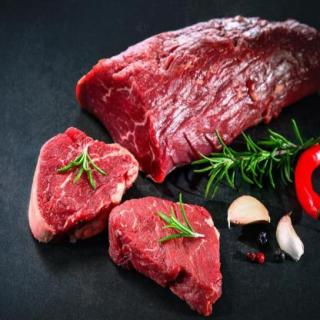Daging Sapi: (78, 16, 320, 182), (110, 200, 224, 318), (31, 128, 139, 244)
